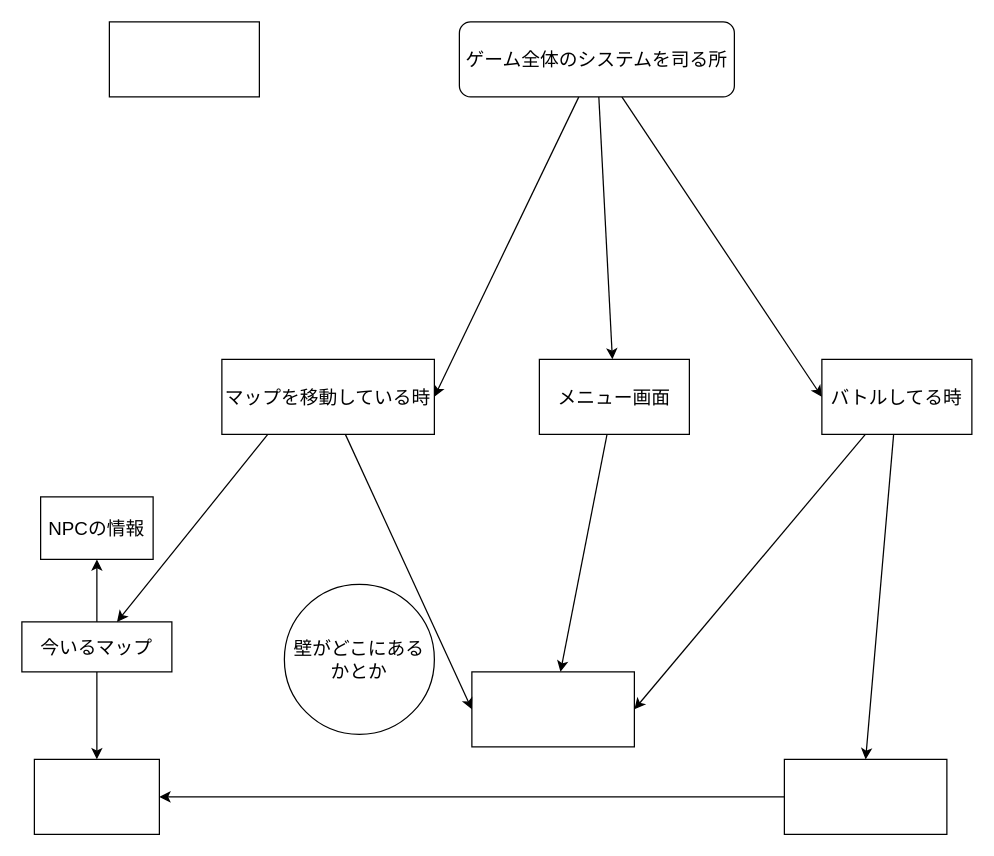
Some shapes in this 994 by 856 pixel diagram are drawn without their labels. Here are the shapes that lost their labels. From the top down, the box of each, then its label:
(108, 21, 259, 97): キー入力
(471, 671, 634, 747): プレイヤーの情報
(33, 758, 159, 834): 出現する敵の情報
(783, 758, 947, 834): 対戦する敵の情報
